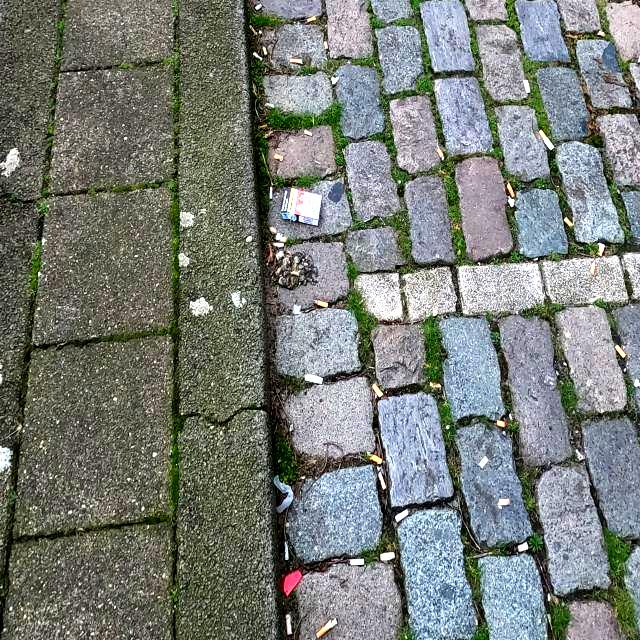Paper: (281, 186, 323, 226)
